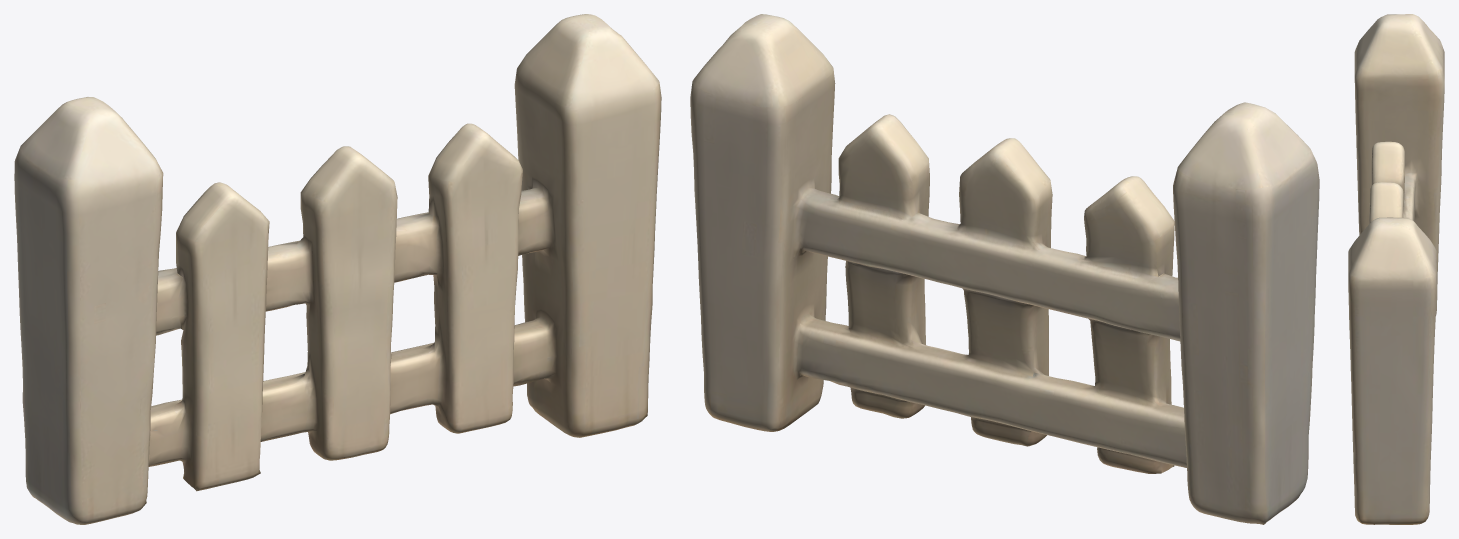
Rendered from fence-white.glb.
3 renders of one model, left to right at view 1: azimuth 30°, elevation 25°; view 2: azimuth 150°, elevation 25°; view 3: azimuth 270°, elevation 25°, orthographic. The views are drawn at different scales.
Visible parts, largest first — view 1: tripo_node_304ffcab-1a5a-4a6f-bed1-3ed82f0f6b13; view 2: tripo_node_304ffcab-1a5a-4a6f-bed1-3ed82f0f6b13; view 3: tripo_node_304ffcab-1a5a-4a6f-bed1-3ed82f0f6b13.
Part boxes in pixels (x1,y1,x2,y2): tripo_node_304ffcab-1a5a-4a6f-bed1-3ed82f0f6b13: (14, 14, 661, 524); tripo_node_304ffcab-1a5a-4a6f-bed1-3ed82f0f6b13: (690, 14, 1319, 524); tripo_node_304ffcab-1a5a-4a6f-bed1-3ed82f0f6b13: (1348, 14, 1444, 524).
Bounding box in the file's own units: 0.9976 × 0.6896 × 0.1897.
1 material, 1 textured.
